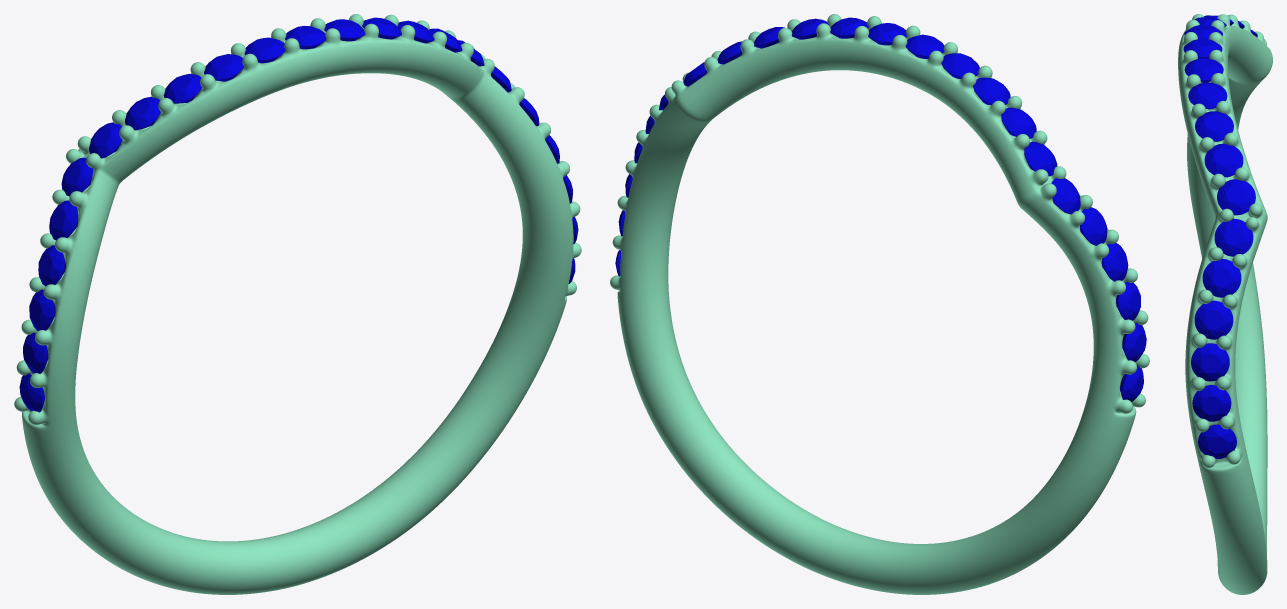
3 renders of one model, left to right at view 1: azimuth 30°, elevation 25°; view 2: azimuth 150°, elevation 25°; view 3: azimuth 270°, elevation 25°, orthographic. The views are drawn at different scales.
Parts seen in each view (by area): view 1: Metal03, Diamond_Band.015, Diamond_Band.018, Diamond_Band.019, Diamond_Band.016, Diamond_Band.017, Diamond_Band.014, Diamond_Band.020, Diamond_Band.013, Diamond_Band.012, Diamond_Band.021; view 2: Metal03, Diamond_Band.018, Diamond_Band.015, Diamond_Band.017, Diamond_Band.016, Diamond_Band.014, Diamond_Band.019, Diamond_Band.013, Diamond_Band.020; view 3: Metal03, Diamond_Band.003, Diamond_Band.004, Diamond_Band.002, Diamond_Band.005, Diamond_Band.001, Diamond_Band.006, Diamond_Band.007, Diamond_Band, Diamond_Band.008, Diamond_Band.009, Diamond_Band.010 (+3 smaller).
Part boxes in pixels (x1=…): Metal03: x1=14, y1=14, x2=581, y2=594; Diamond_Band.015: x1=125, y1=96, x2=160, y2=130; Diamond_Band.018: x1=49, y1=200, x2=78, y2=240; Diamond_Band.019: x1=38, y1=245, x2=65, y2=286; Diamond_Band.016: x1=89, y1=122, x2=122, y2=158; Diamond_Band.017: x1=61, y1=157, x2=93, y2=196; Diamond_Band.014: x1=163, y1=73, x2=201, y2=103; Diamond_Band.020: x1=29, y1=289, x2=55, y2=330; Diamond_Band.013: x1=204, y1=54, x2=243, y2=81; Diamond_Band.012: x1=244, y1=37, x2=285, y2=63; Diamond_Band.021: x1=23, y1=332, x2=48, y2=373; Metal03: x1=610, y1=14, x2=1149, y2=594; Diamond_Band.018: x1=1080, y1=207, x2=1107, y2=245; Diamond_Band.015: x1=1001, y1=107, x2=1036, y2=138; Diamond_Band.017: x1=1051, y1=178, x2=1080, y2=214; Diamond_Band.016: x1=1024, y1=141, x2=1057, y2=176; Diamond_Band.014: x1=973, y1=77, x2=1010, y2=105; Diamond_Band.019: x1=1101, y1=243, x2=1128, y2=281; Diamond_Band.013: x1=941, y1=53, x2=979, y2=79; Diamond_Band.020: x1=1116, y1=281, x2=1140, y2=320; Metal03: x1=1178, y1=14, x2=1272, y2=594; Diamond_Band.003: x1=1194, y1=300, x2=1233, y2=339; Diamond_Band.004: x1=1202, y1=259, x2=1241, y2=297; Diamond_Band.002: x1=1191, y1=343, x2=1229, y2=381; Diamond_Band.005: x1=1214, y1=218, x2=1253, y2=256; Diamond_Band.001: x1=1192, y1=385, x2=1231, y2=421; Diamond_Band.006: x1=1217, y1=179, x2=1255, y2=215; Diamond_Band.007: x1=1204, y1=143, x2=1243, y2=177; Diamond_Band: x1=1198, y1=424, x2=1236, y2=458; Diamond_Band.008: x1=1195, y1=111, x2=1233, y2=141; Diamond_Band.009: x1=1188, y1=82, x2=1227, y2=109; Diamond_Band.010: x1=1184, y1=58, x2=1223, y2=82.
Bounding box in the file's own units: 21.01 × 20.91 × 3.42.
